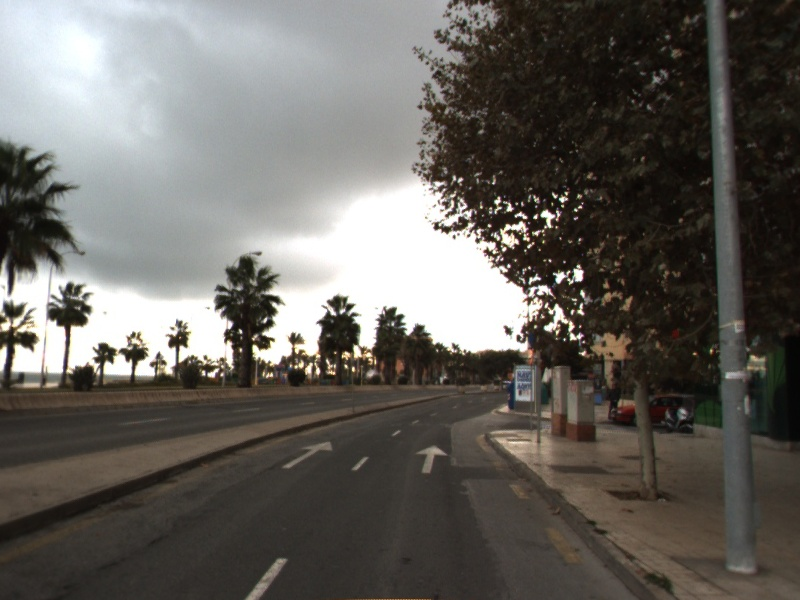STRAIGHT: (280, 440, 334, 470), (414, 443, 450, 475)
